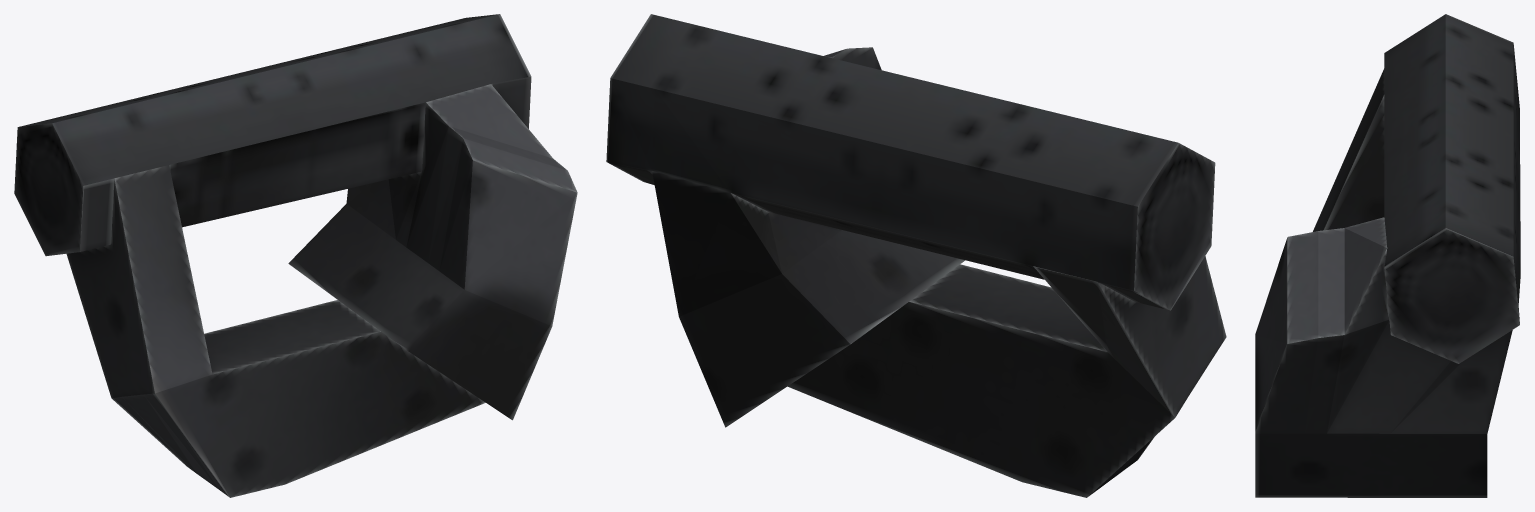
File: r_lglut.DAE
3 views of the same model, side by side, from view 1: azimuth 30°, elevation 25°; view 2: azimuth 150°, elevation 25°; view 3: azimuth 270°, elevation 25° (orthographic). The views are drawn at different scales.
Parts seen in each view (by area): view 1: drc_r_lglut; view 2: drc_r_lglut; view 3: drc_r_lglut.
Boxes of the visible parts, x1,y1,x2,y2 form: drc_r_lglut: (14, 14, 577, 497); drc_r_lglut: (606, 14, 1226, 497); drc_r_lglut: (1255, 14, 1520, 497).
Size of the model in its own units: 0.00144 by 0.000748 by 0.00106.
Materials: 1 (1 with a texture image).
